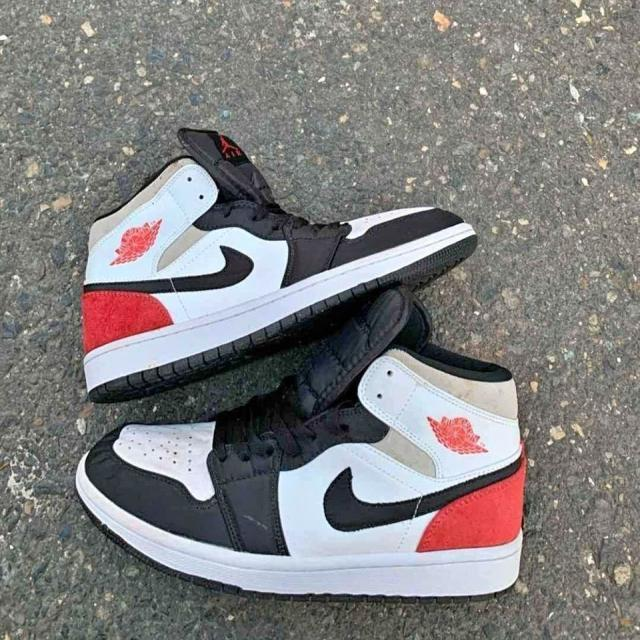nike fake jordan 1: (71, 286, 532, 602), (78, 121, 478, 397)
